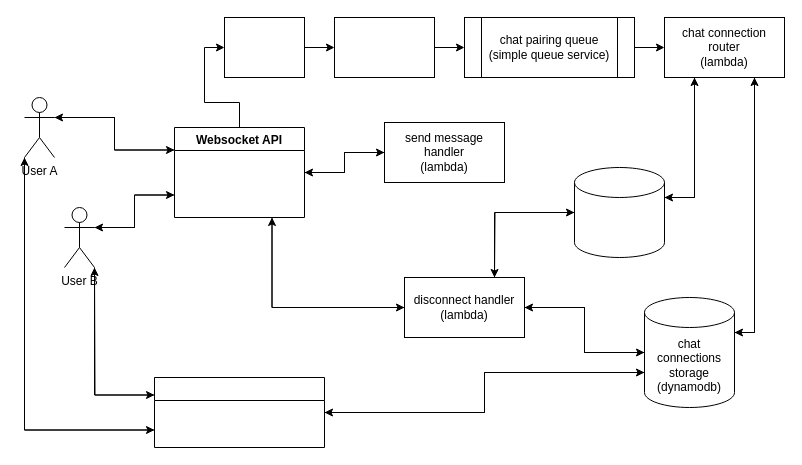
The diagram is 802 pixels wide and 465 high, and some of its shapes have lost their labels. Here are the shapes that lost their labels. From the top down, the box of each, then its label:
(224, 16, 304, 78): connect handler (lambda)
(334, 16, 434, 78): join chat pairing queue (lambda)
(574, 166, 664, 258): waiting room storage (dynamodb)
(154, 376, 324, 448): Chat Status Polling API
